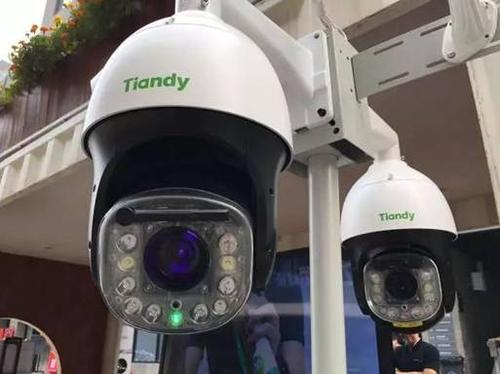person: (392, 330, 441, 374)
sign: (93, 21, 289, 337), (345, 163, 457, 328)
